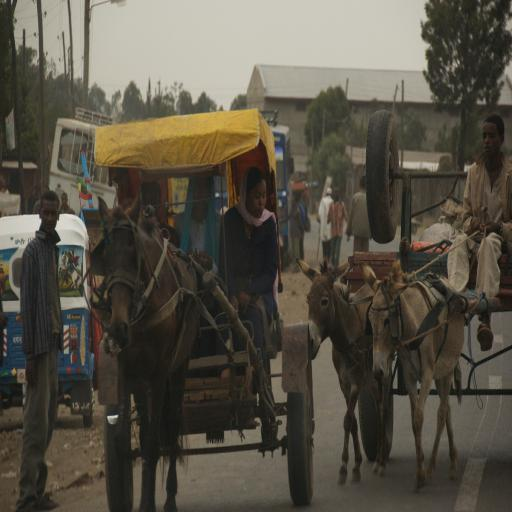horse: (98, 192, 198, 512)
